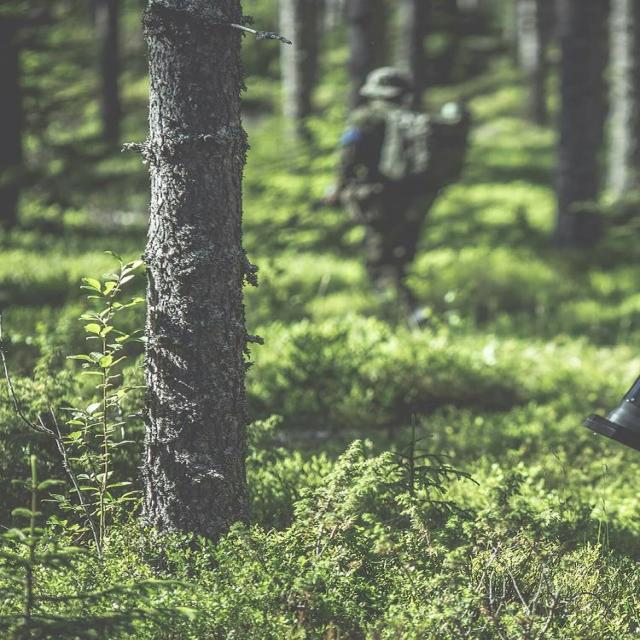Human: (326, 67, 470, 332)
